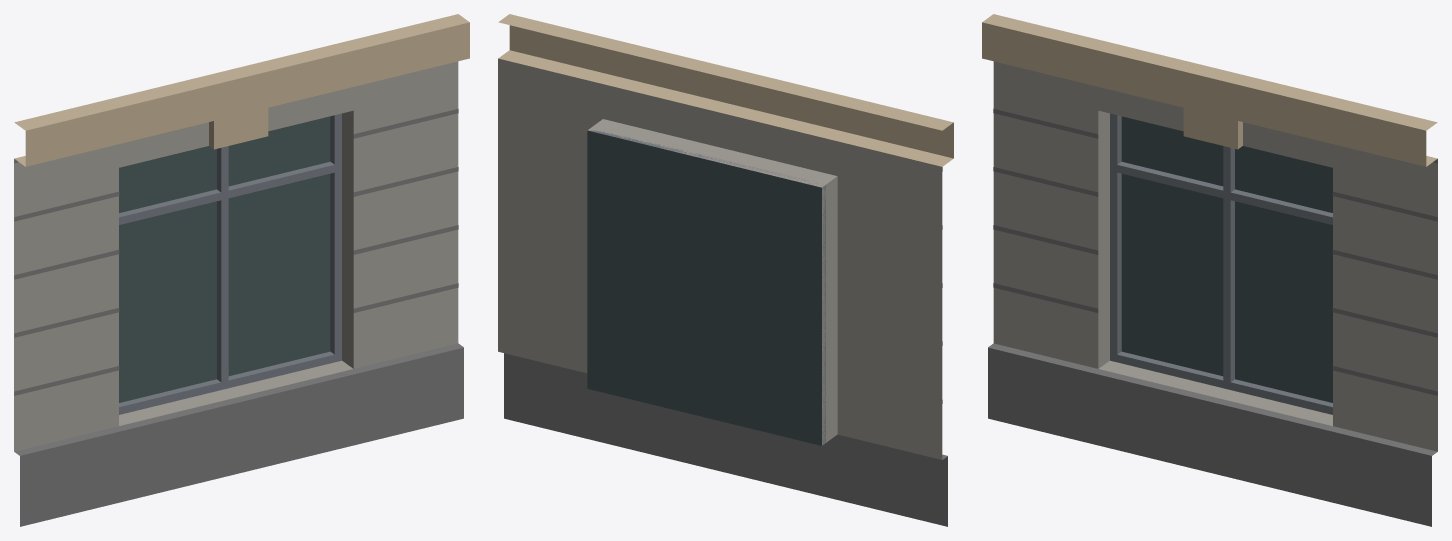
File: base-w1_close.fbx
The picture shows the model from 3 angles, left to right: view 1: azimuth 30°, elevation 25°; view 2: azimuth 150°, elevation 25°; view 3: azimuth 330°, elevation 25°; orthographic projection.
Visible parts, largest first — view 1: a2019/250/base-w1_close; view 2: a2019/250/base-w1_close; view 3: a2019/250/base-w1_close.
Part boxes in pixels (x1,y1,x2,y2): a2019/250/base-w1_close: (14, 14, 469, 526); a2019/250/base-w1_close: (498, 14, 953, 526); a2019/250/base-w1_close: (982, 14, 1437, 526).
Size of the model in its own units: 3.6 by 3.1 by 0.38.
